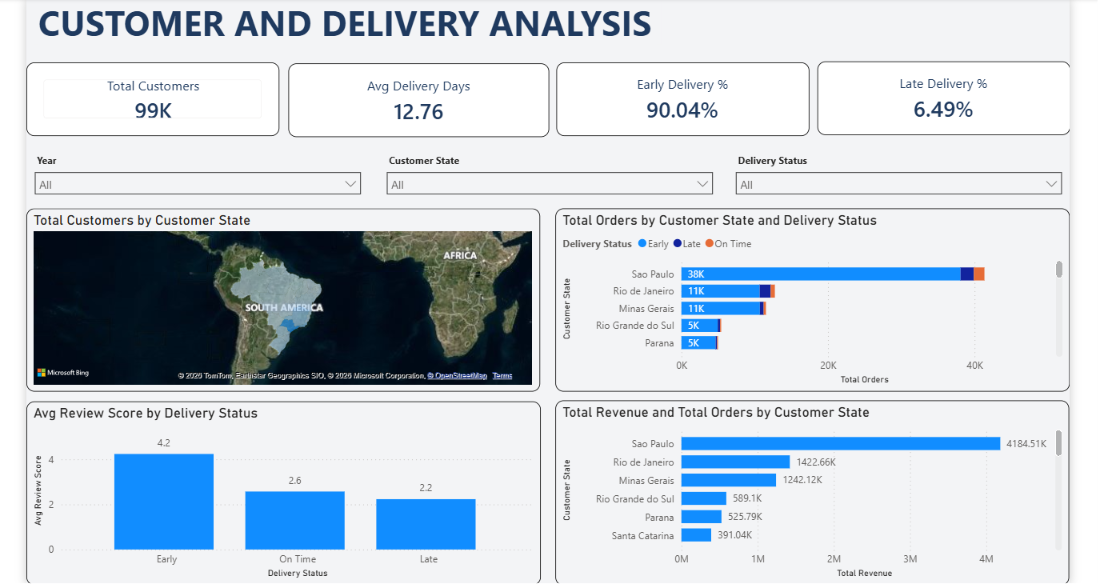

Layout of this report page (visuals, bound fields, positions):
{"tool":"powerbi","page":{"name":"Customers & Delivery Analysis","canvas":[1280,720],"ordinal":2},"visuals":[{"type":"textbox","title":"CUSTOMER AND DELIVERY ANALYSIS","box":[10,0,768.6,55.7],"z":0},{"type":"cardVisual","fields":{"Data":["Measures Table.Avg Delivery Days"]},"box":[321.4,80,320,90],"z":1000},{"type":"cardVisual","fields":{"Data":["Measures Table.Total Customers"]},"box":[0,78.6,310,90],"z":2000},{"type":"cardVisual","fields":{"Data":["Measures Table.Early Delivery %"]},"box":[650,78.6,310,90],"z":3000},{"type":"cardVisual","fields":{"Data":["Measures Table.Late Delivery %"]},"box":[970,77.1,310,90],"z":4000},{"type":"filledMap","title":"Total Customers by Customer State","fields":{"Category":["Brazilian Ecommerce.Customer State"],"Y":["Measures Table.Total Customers"]},"box":[0,257.1,630,225],"z":5000},{"type":"slicer","fields":{"Values":["Date Table.Date.Variation.Date Hierarchy.Year"]},"box":[0,185.7,420,60],"z":6000},{"type":"slicer","fields":{"Values":["Brazilian Ecommerce.Customer State"]},"box":[431.4,185.7,420,60],"z":7000},{"type":"slicer","fields":{"Values":["Brazilian Ecommerce.Delivery Status"]},"box":[860,185.7,420,60],"z":8000},{"type":"barChart","title":"Total Orders by Customer State and Delivery Status","fields":{"Series":["Brazilian Ecommerce.Delivery Status"],"Category":["Brazilian Ecommerce.Customer State"],"Y":["Measures Table.Total Orders"]},"box":[648.6,257.1,631.4,225],"z":9000},{"type":"clusteredColumnChart","title":"Avg Review Score by Delivery Status","fields":{"Category":["Brazilian Ecommerce.Delivery Status"],"Y":["Measures Table.Avg Review Score"]},"box":[0,494.3,631.4,225.7],"z":10000},{"type":"clusteredBarChart","fields":{"Category":["Brazilian Ecommerce.Customer State"],"Y":["Measures Table.Total Revenue"]},"box":[649.1,493.3,630.7,227],"z":11000}]}

Visuals, with their boxes on the page's 1280x720 design canvas (x1, y1, x2, y2). These are canvas units, not pixel positions in the 1098x584 screenshot, which may show the page scaled, cropped or inside an application window:
"CUSTOMER AND DELIVERY ANALYSIS" textbox: {"x1": 10, "y1": 0, "x2": 779, "y2": 56}
cardVisual - Measures Table.Avg Delivery Days: {"x1": 321, "y1": 80, "x2": 641, "y2": 170}
cardVisual - Measures Table.Total Customers: {"x1": 0, "y1": 79, "x2": 310, "y2": 169}
cardVisual - Measures Table.Early Delivery %: {"x1": 650, "y1": 79, "x2": 960, "y2": 169}
cardVisual - Measures Table.Late Delivery %: {"x1": 970, "y1": 77, "x2": 1280, "y2": 167}
"Total Customers by Customer State" filledMap: {"x1": 0, "y1": 257, "x2": 630, "y2": 482}
slicer - Date Table.Date.Variation.Date Hierarchy.Year: {"x1": 0, "y1": 186, "x2": 420, "y2": 246}
slicer - Brazilian Ecommerce.Customer State: {"x1": 431, "y1": 186, "x2": 851, "y2": 246}
slicer - Brazilian Ecommerce.Delivery Status: {"x1": 860, "y1": 186, "x2": 1280, "y2": 246}
"Total Orders by Customer State and Delivery Status" barChart: {"x1": 649, "y1": 257, "x2": 1280, "y2": 482}
"Avg Review Score by Delivery Status" clusteredColumnChart: {"x1": 0, "y1": 494, "x2": 631, "y2": 720}
clusteredBarChart - Brazilian Ecommerce.Customer State x Measures Table.Total Revenue: {"x1": 649, "y1": 493, "x2": 1280, "y2": 720}
